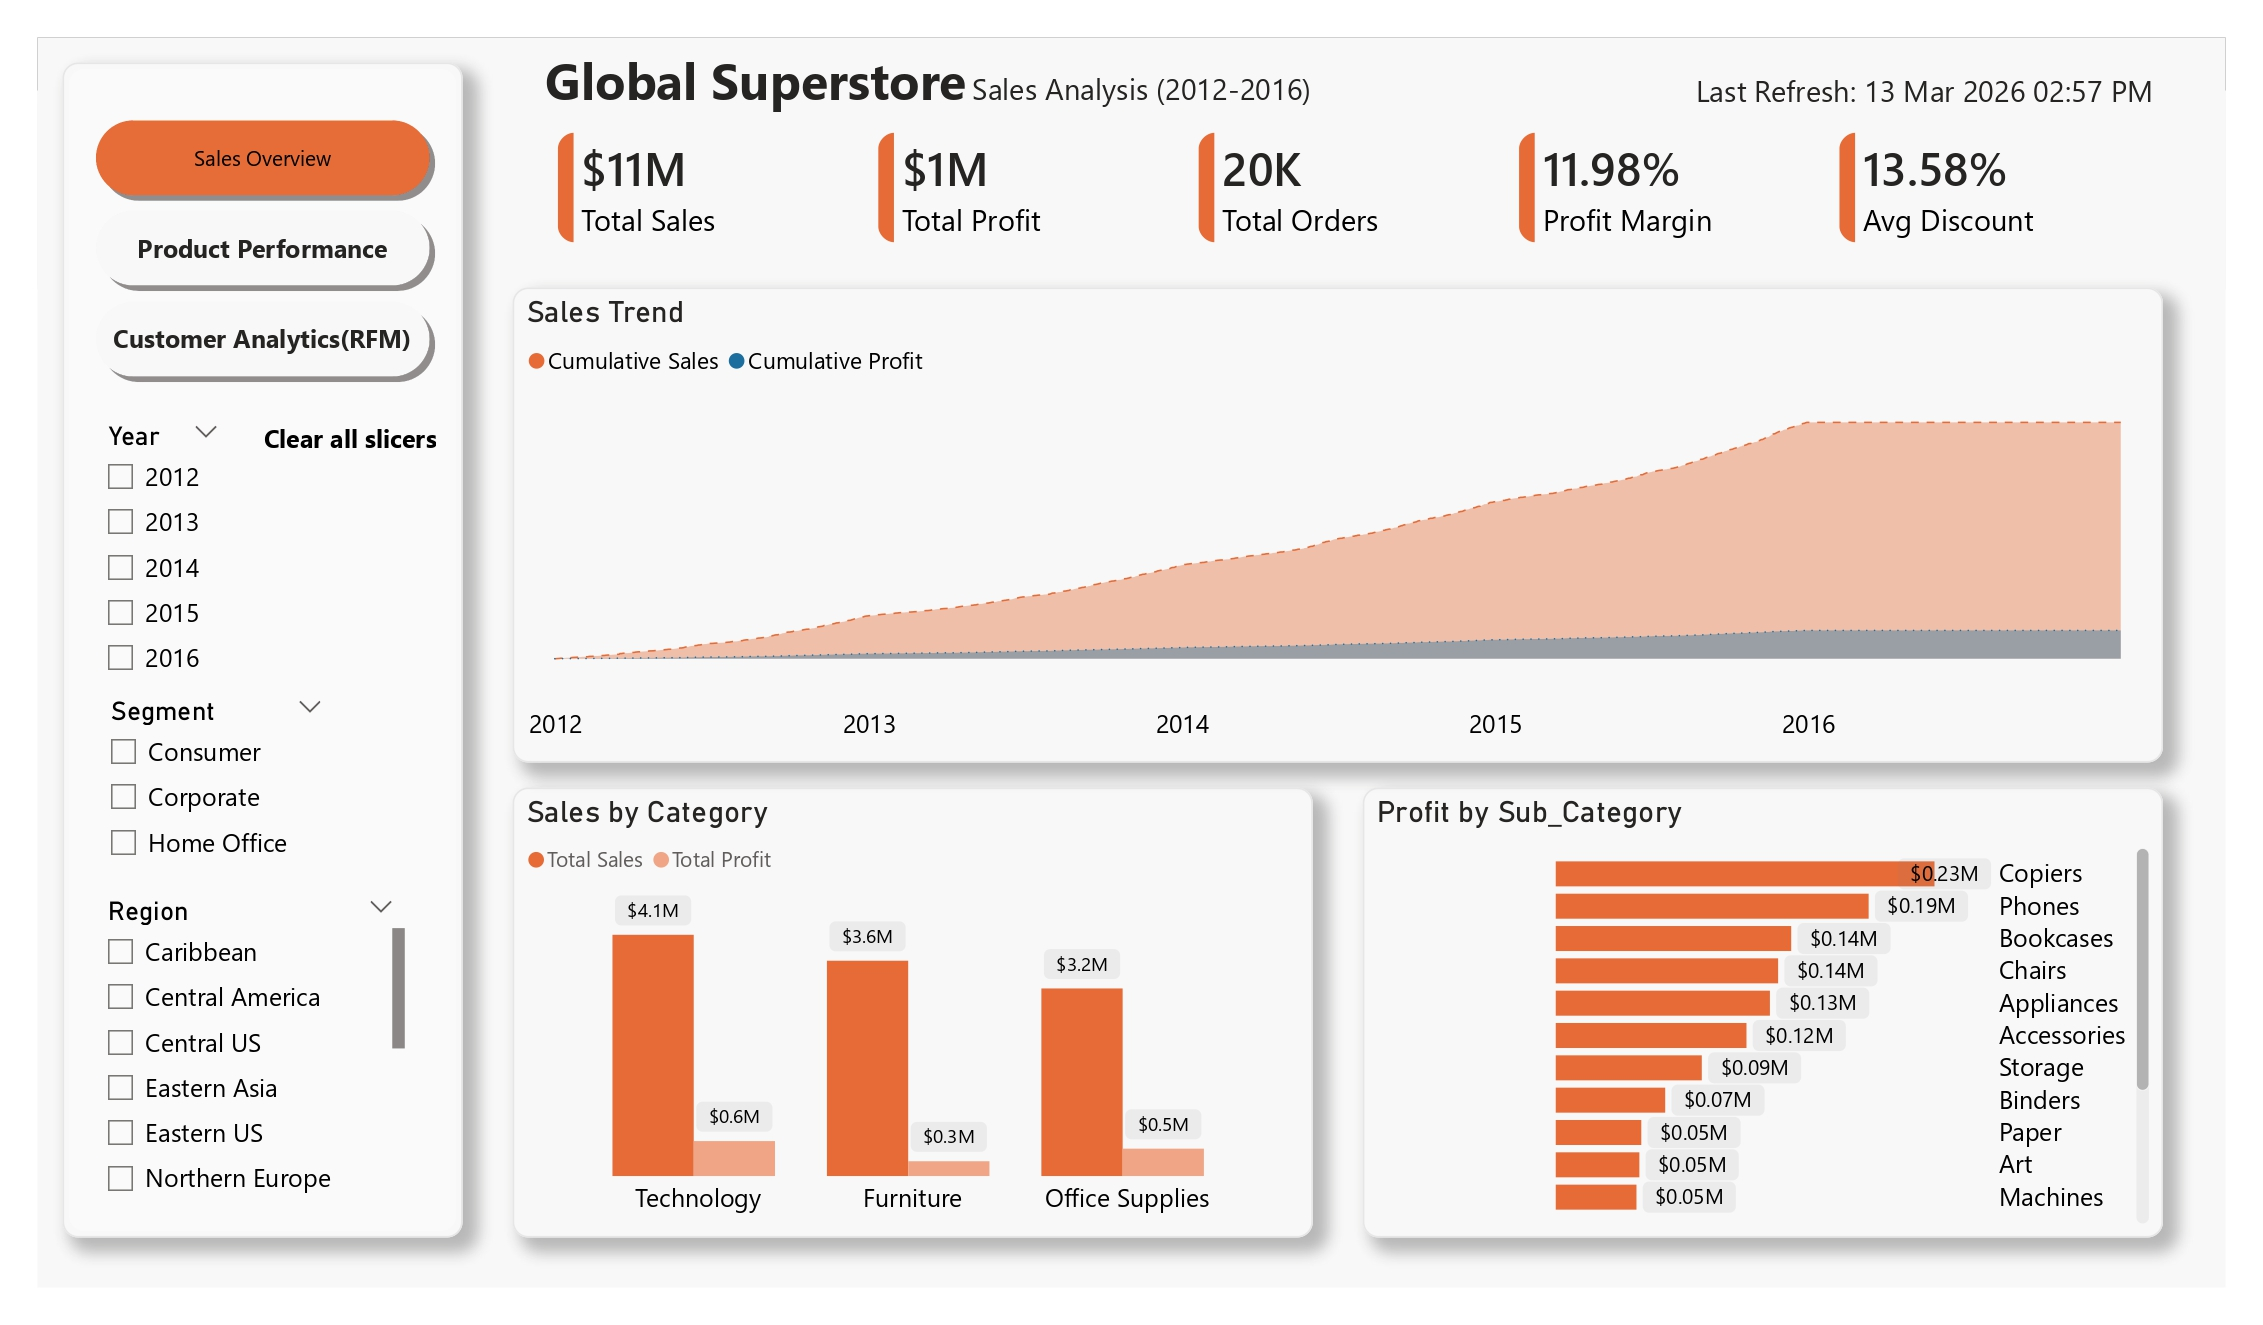

This screenshot's page, from the dashboard's own definition file:
{"tool":"powerbi","page":{"name":"Sales Overview","canvas":[1400,800],"ordinal":0},"visuals":[{"type":"shape","box":[16,16,256,752],"z":0},{"type":"cardVisual","fields":{"Data":["MeasuresAll.Total Sales","MeasuresAll.Total Profit","MeasuresAll.Total Orders","MeasuresAll.Profit Margin","MeasuresAll.Avg Discount"]},"box":[304,32,1056,128],"z":1000},{"type":"areaChart","title":"Sales Trend","fields":{"Y":["MeasuresAll.Cumulative Sales","MeasuresAll.Cumulative Profit"],"Category":["DimDate.Date"]},"box":[304,160,1056,304],"z":2000},{"type":"clusteredColumnChart","title":"Sales by Category","fields":{"Category":["Orders.Category"],"Y":["MeasuresAll.Total Sales","MeasuresAll.Total Profit"]},"box":[304,480,512,288],"z":3000},{"type":"barChart","title":"Profit by Sub_Category","fields":{"Category":["Orders.Sub_Category"],"Y":["MeasuresAll.Total Profit"]},"box":[848,480,512,288],"z":4000},{"type":"slicer","fields":{"Values":["Orders.Region"]},"box":[32,544,208,208],"z":5000},{"type":"slicer","fields":{"Values":["Orders.Segment"]},"box":[33.9,416,160,128],"z":6000},{"type":"slicer","fields":{"Values":["DimDate.Year"]},"box":[32,240,96,176],"z":7000},{"type":"pageNavigator","box":[32,48,224,176],"z":8000},{"type":"textbox","box":[320,0,560,64],"z":9000},{"type":"cardVisual","fields":{"Data":["MeasuresAll.Last Refresh Label"]},"box":[1032,0,368,64],"z":10000},{"type":"actionButton","box":[128,240,144,32],"z":10001}]}

Visuals, with their boxes on the page's 1400x800 design canvas (x1, y1, x2, y2). These are canvas units, not pixel positions in the 2263x1325 screenshot, which may show the page scaled, cropped or inside an application window:
shape: {"left": 16, "top": 16, "right": 272, "bottom": 768}
cardVisual - MeasuresAll.Total Sales x MeasuresAll.Total Profit: {"left": 304, "top": 32, "right": 1360, "bottom": 160}
"Sales Trend" areaChart: {"left": 304, "top": 160, "right": 1360, "bottom": 464}
"Sales by Category" clusteredColumnChart: {"left": 304, "top": 480, "right": 816, "bottom": 768}
"Profit by Sub_Category" barChart: {"left": 848, "top": 480, "right": 1360, "bottom": 768}
slicer - Orders.Region: {"left": 32, "top": 544, "right": 240, "bottom": 752}
slicer - Orders.Segment: {"left": 34, "top": 416, "right": 194, "bottom": 544}
slicer - DimDate.Year: {"left": 32, "top": 240, "right": 128, "bottom": 416}
pageNavigator: {"left": 32, "top": 48, "right": 256, "bottom": 224}
textbox: {"left": 320, "top": 0, "right": 880, "bottom": 64}
cardVisual - MeasuresAll.Last Refresh Label: {"left": 1032, "top": 0, "right": 1400, "bottom": 64}
actionButton: {"left": 128, "top": 240, "right": 272, "bottom": 272}
